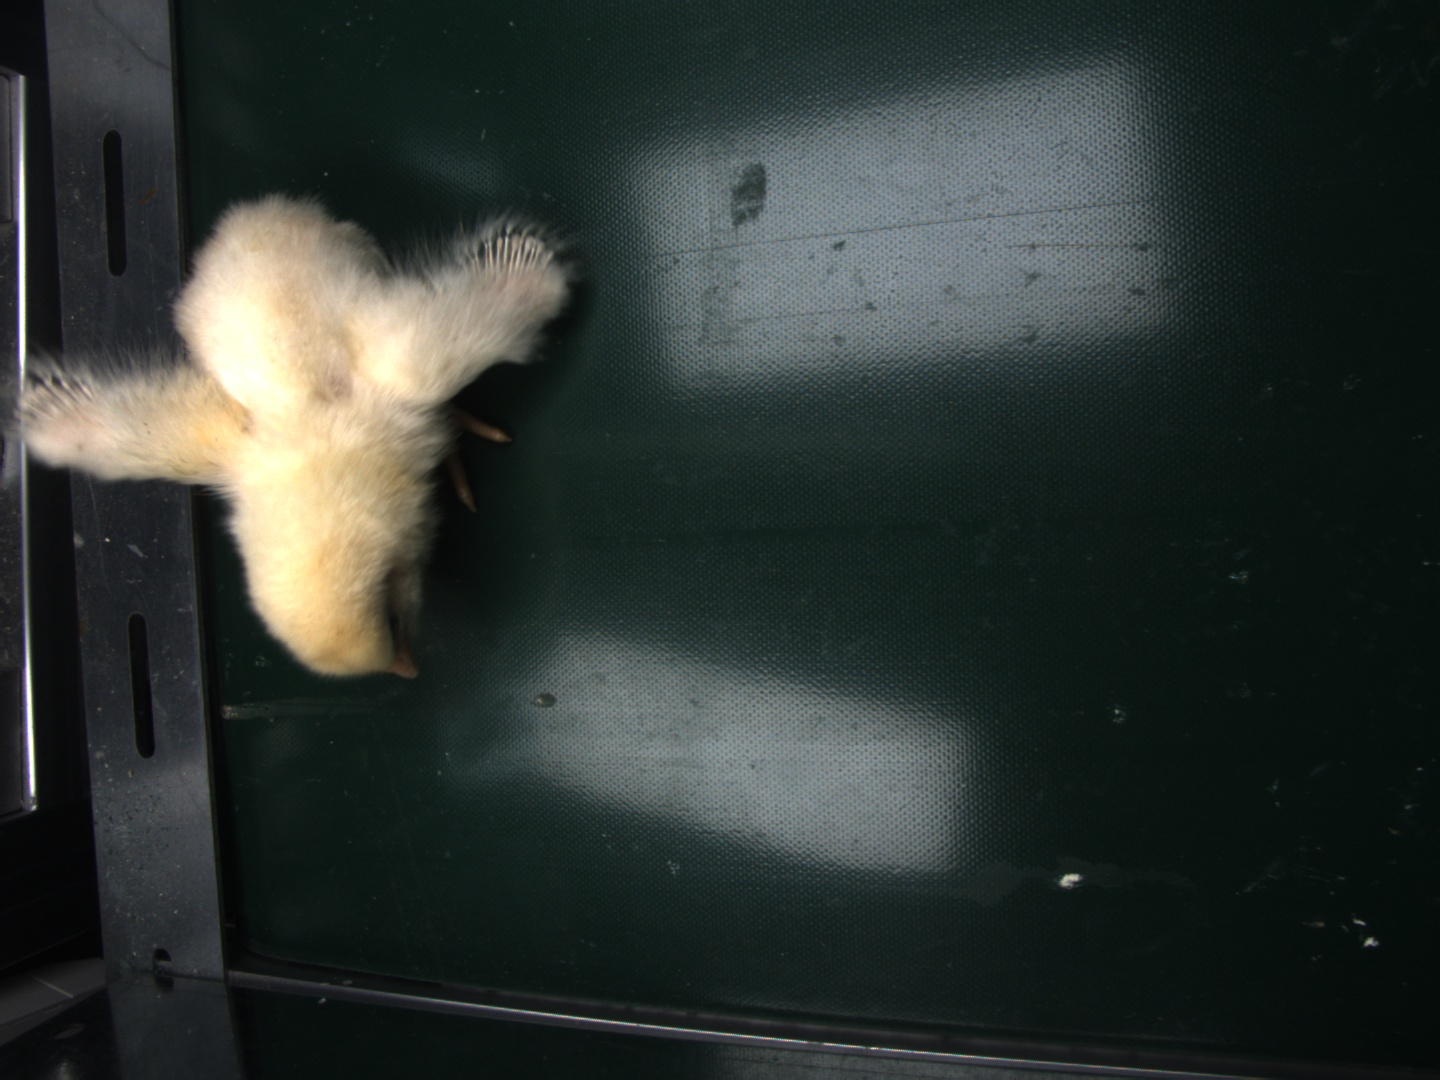male: (480, 227, 552, 275)
